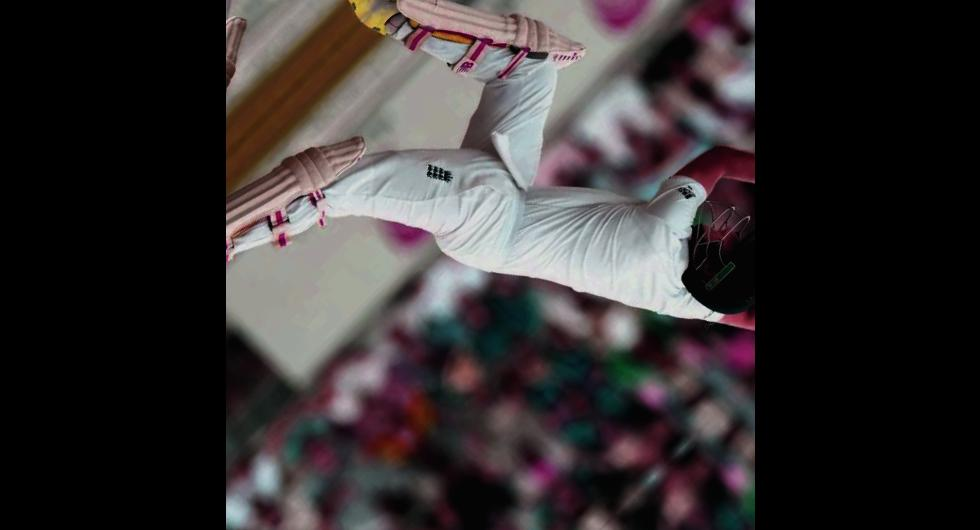batsman: (289, 0, 755, 358)
